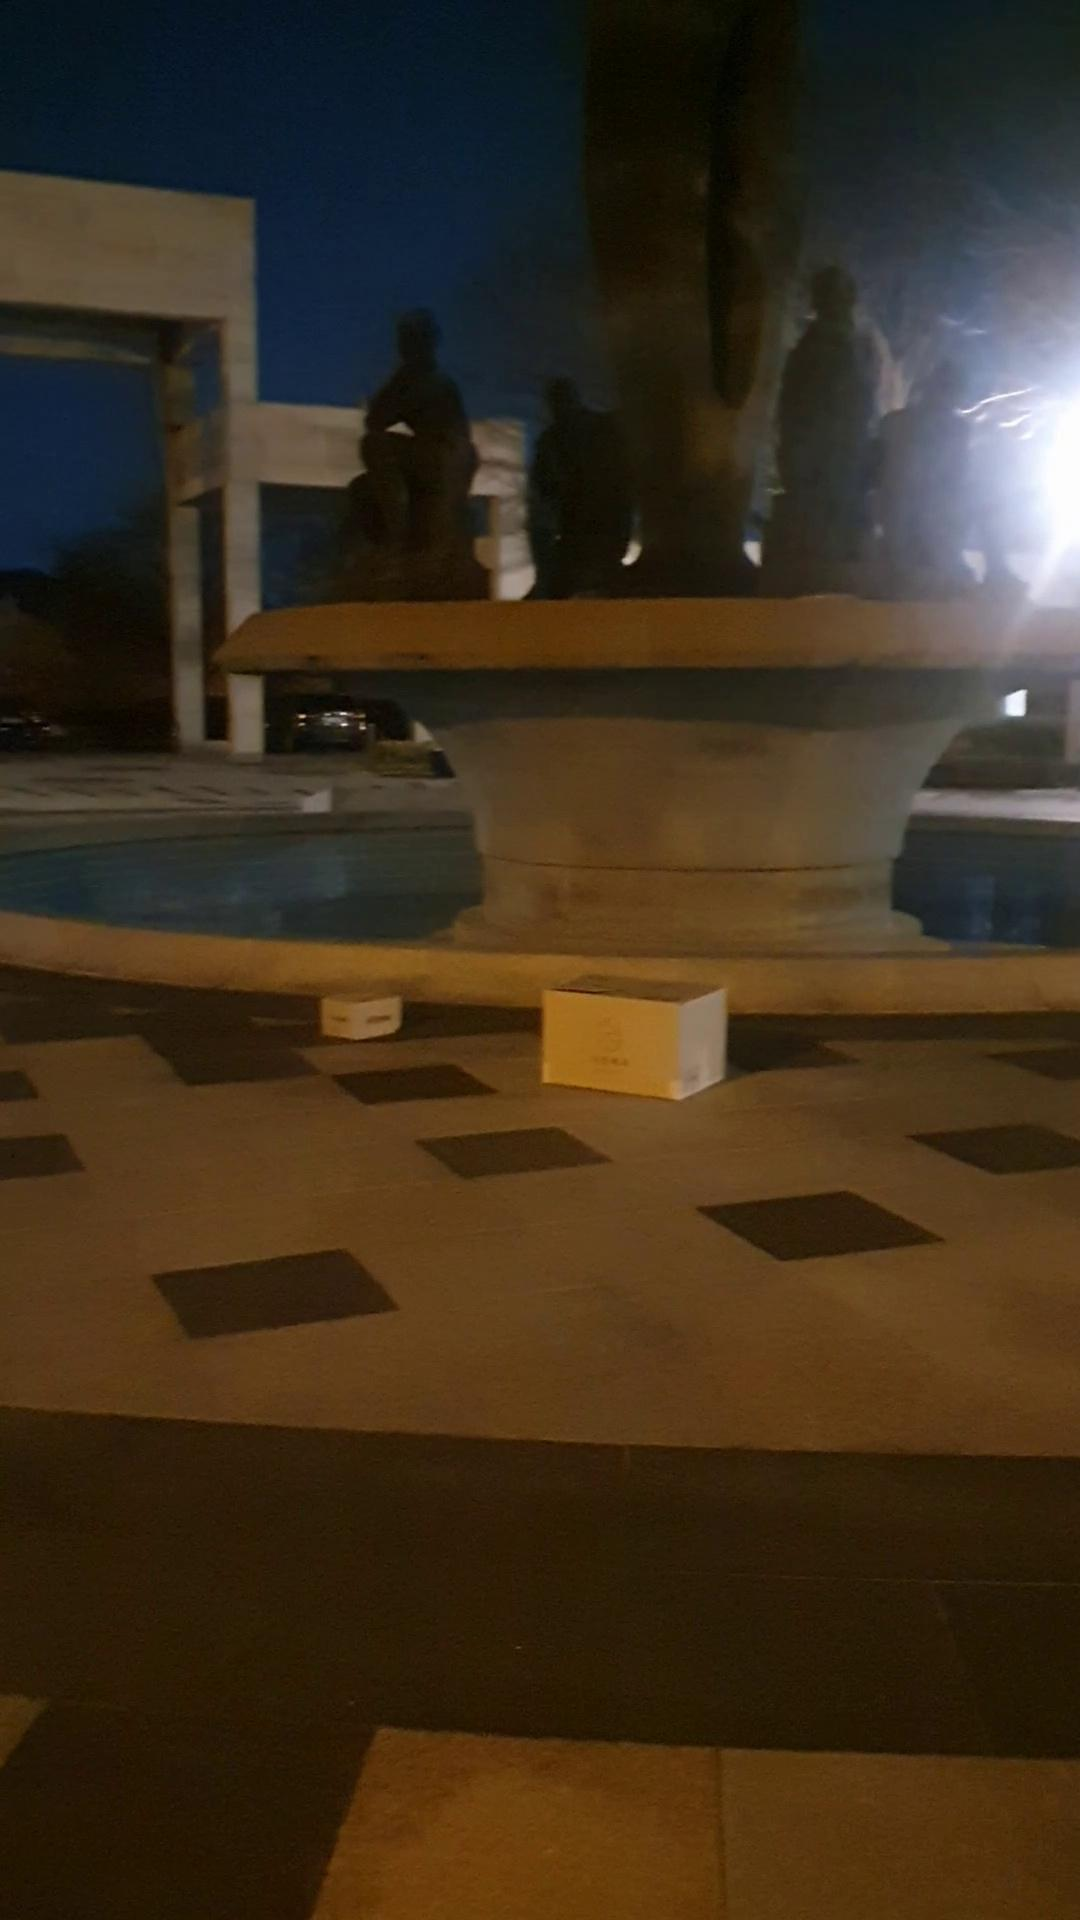Box: (531, 960, 735, 1112), (313, 973, 410, 1043)
